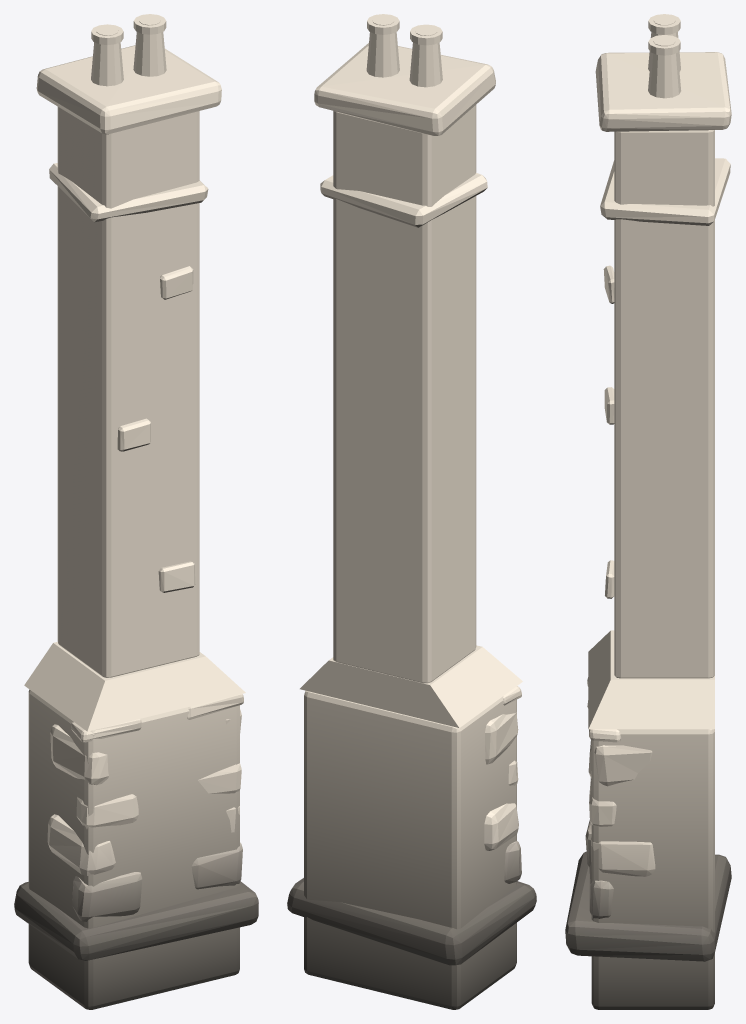
File: SM_VK_Chimney_Gable_H30.fbx
3 renders of one model, left to right at view 1: azimuth 30°, elevation 25°; view 2: azimuth 150°, elevation 25°; view 3: azimuth 270°, elevation 25°, orthographic.
Parts seen in each view (by area): view 1: SM_VK_Chimney_Gable_H30.001; view 2: SM_VK_Chimney_Gable_H30.001; view 3: SM_VK_Chimney_Gable_H30.001.
Boxes of the visible parts, bbox=[...] form: SM_VK_Chimney_Gable_H30.001: bbox=[14, 14, 258, 1009]; SM_VK_Chimney_Gable_H30.001: bbox=[287, 14, 536, 1009]; SM_VK_Chimney_Gable_H30.001: bbox=[565, 14, 731, 1009].
Bounding box in the file's own units: 1.94 × 9.3 × 1.49.
